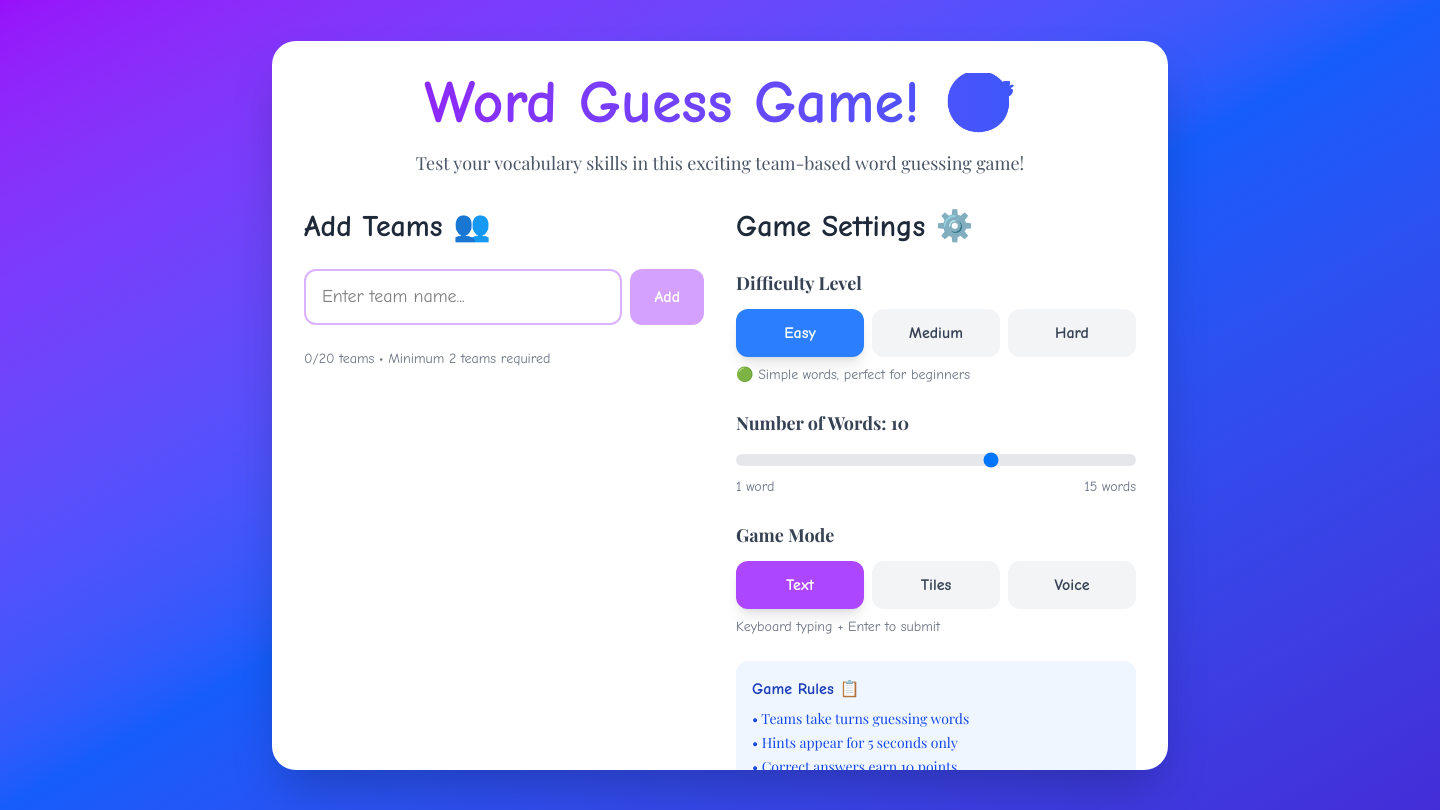
StartScreen › allows adding multiple teams
// Add first team
Type "Team Alpha" into the field with placeholder "Enter team name..." at [463, 296], box [304,268,622,324]
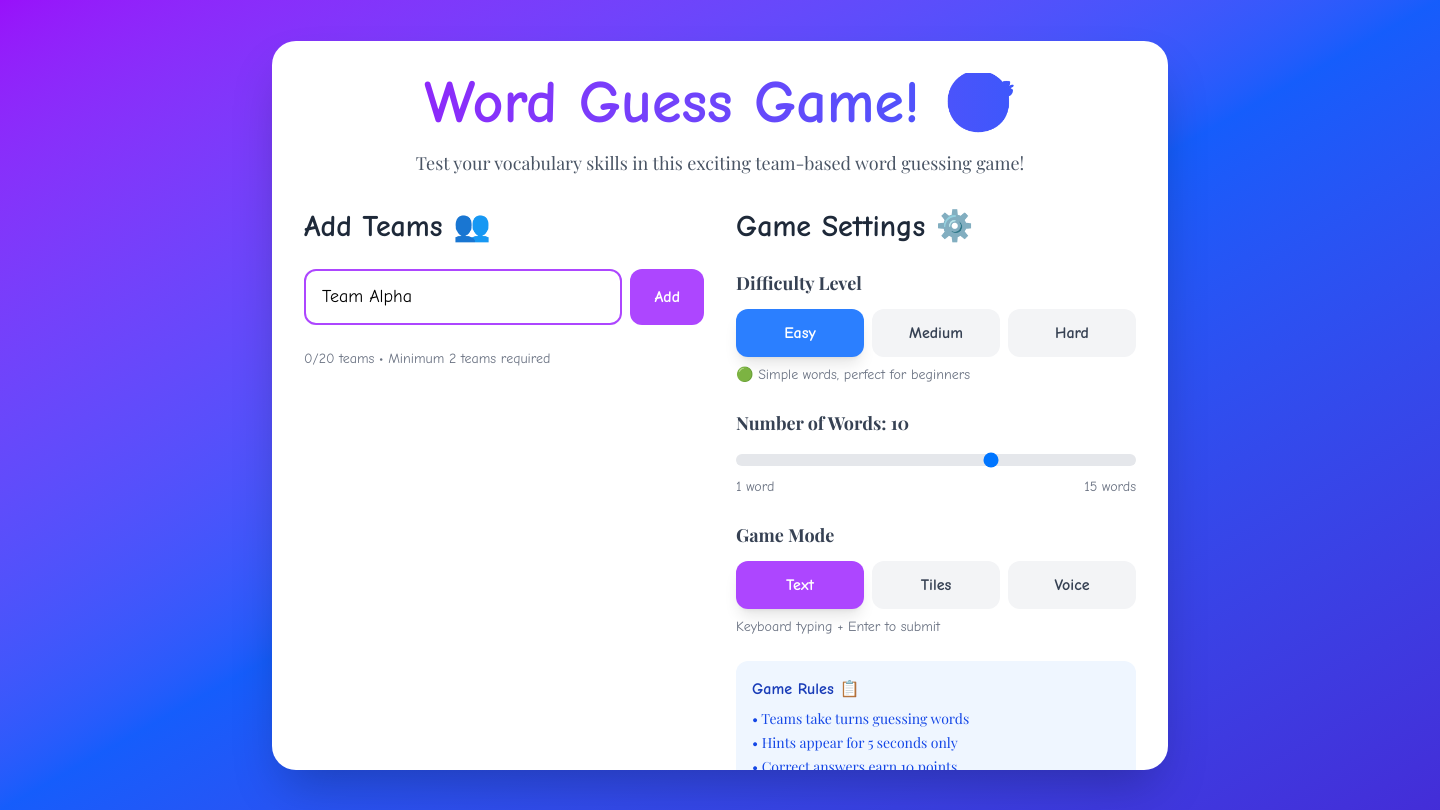
Click the button "Add" at [667, 296], box [630,268,704,324]
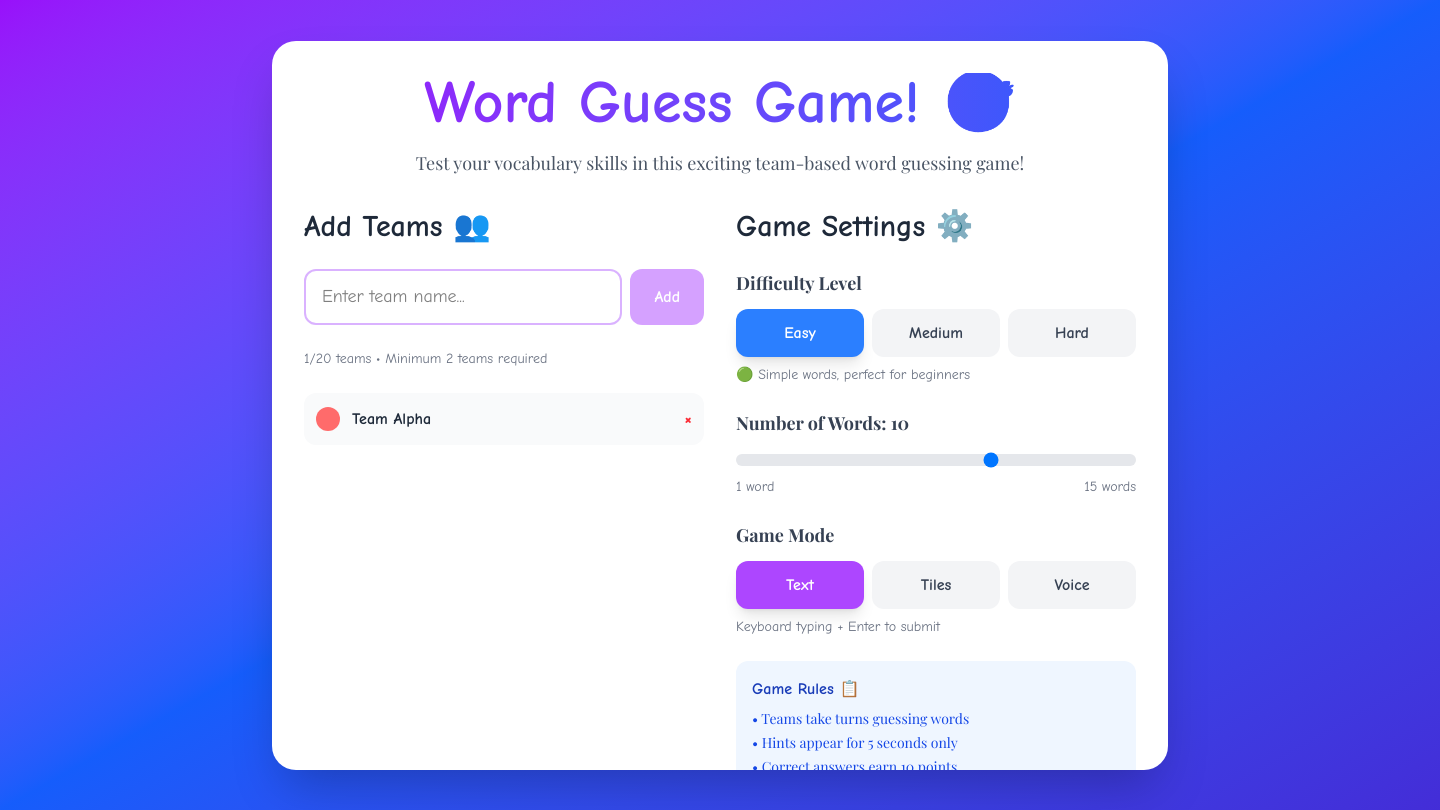
// Clear input and add second team
Type "Team Beta" into the field with placeholder "Enter team name..." at [463, 296], box [304,268,622,324]
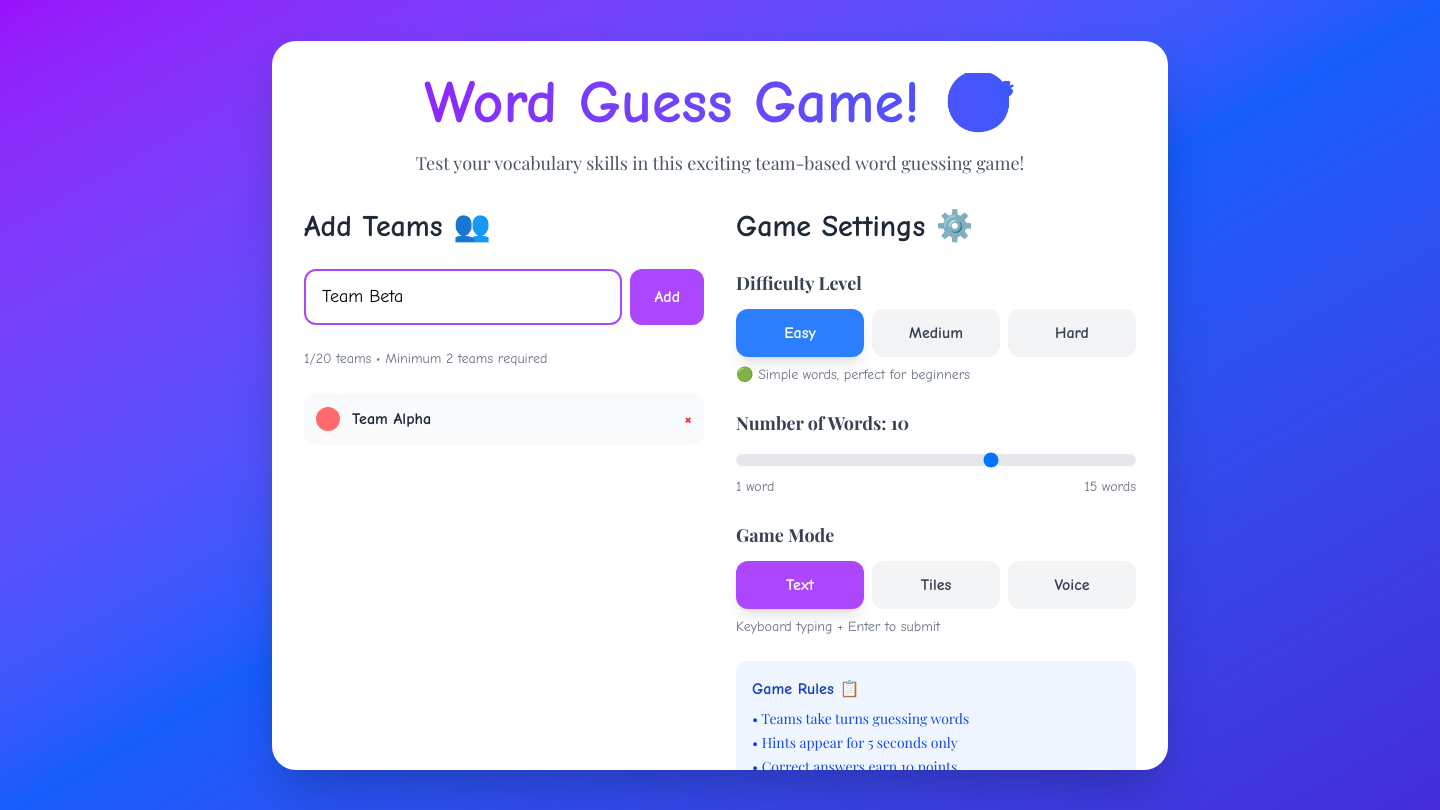
Click the button "Add" at [667, 296], box [630,268,704,324]
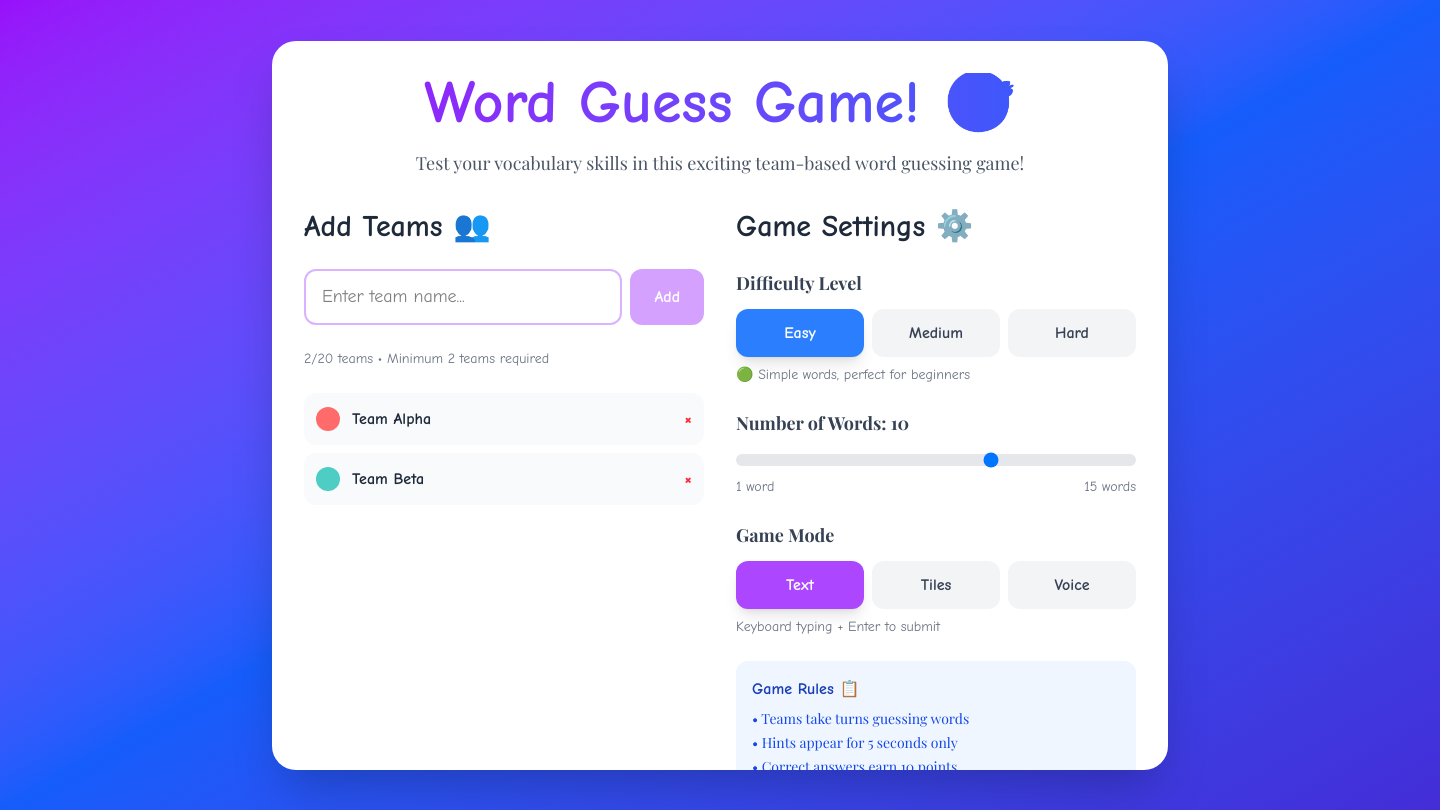
Expected: the text "Team Alpha" is shown, [352,406,431,430]
Expected: the text "Team Beta" is shown, [352,466,424,490]
